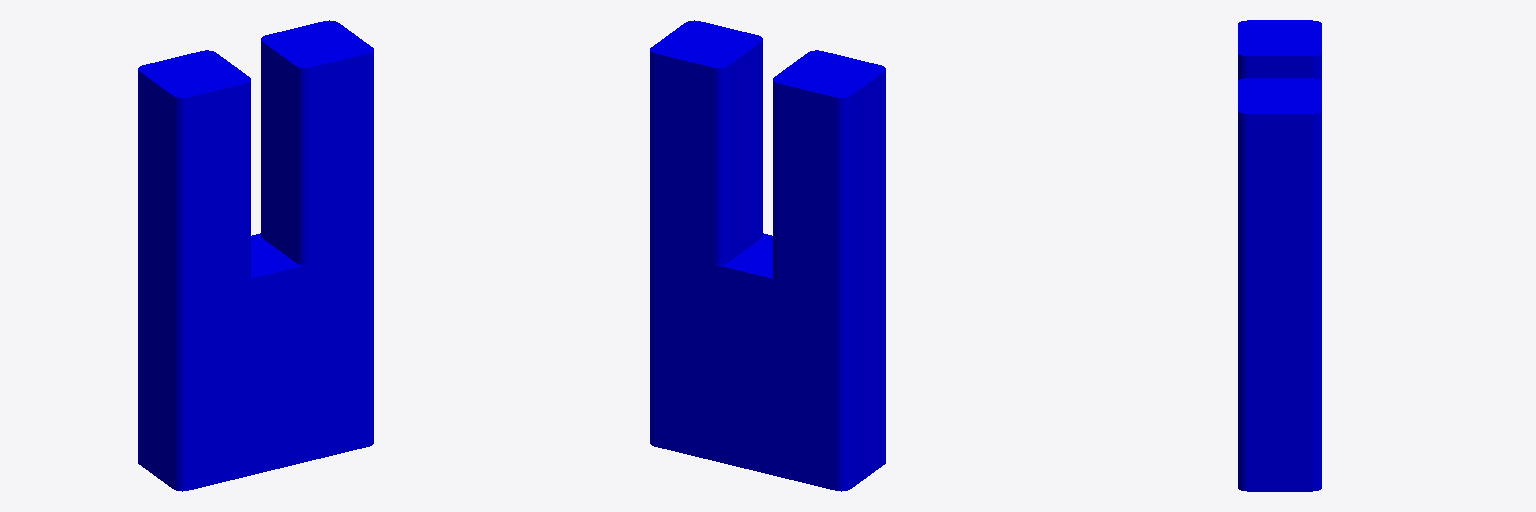
The robot description file, URDF, robot "board2_block2":
<?xml version="1.0"?>
<robot name="board2_block2">
    <link name="board2_block2">
        <visual>
            <origin xyz="0 0 0 " rpy=" 0 0 0"/>
            <geometry>
                <mesh filename="../meshes/SIMO_Board2_Block2.stl" scale="0.001 0.001 0.001"/>
            </geometry>
            <material name="red">
                <color rgba="0.0 0.0 1.0 1.0"/>
            </material>
        </visual>
        <collision>
            <origin xyz="0 0 0" rpy="0 0 0"/>
            <geometry>
                <mesh filename="../meshes/SIMO_Board2_Block2.stl" scale="0.001 0.001 0.001"/>
            </geometry>
        </collision>
    </link>
</robot>

--- Facts derived from the render (not from the file) ---
3 views of the same robot in one strip: view 1: azimuth 30°, elevation 25°; view 2: azimuth 150°, elevation 25°; view 3: azimuth 270°, elevation 25° (orthographic).
Robot: board2_block2 — 1 links, 0 joints (none); root link board2_block2; default pose: every joint at zero.
Links seen in each view (by area): view 1: board2_block2; view 2: board2_block2; view 3: board2_block2.
Link boxes in pixels (x1=…): board2_block2: x1=138, y1=20, x2=373, y2=491; board2_block2: x1=650, y1=20, x2=885, y2=491; board2_block2: x1=1238, y1=20, x2=1321, y2=491.
Bounding box of the posed robot: 0.053 × 0.0204 × 0.1 m (x, y, z).
1 mesh visuals loaded from 1 distinct referenced files (1 ASCII STL).
